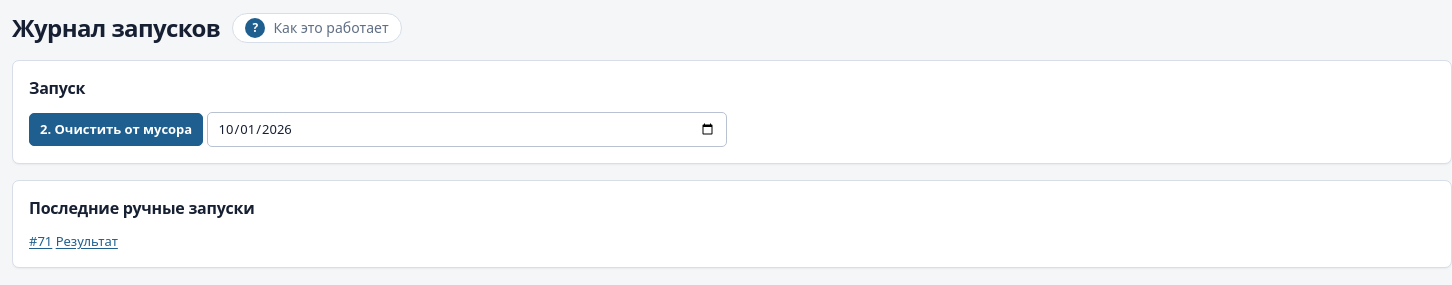
Scenario: sends an action to its legacy route and opens the answer here
Click the button "2. Очистить от мусора". click: (116, 130)
box: 29,113 -> 203,146
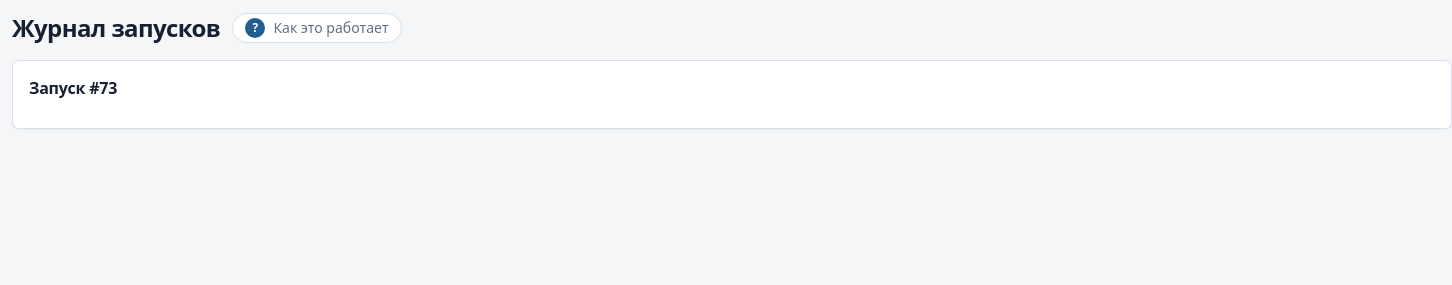
Result: the heading "Запуск #73" is shown at 29,77 -> 117,99
